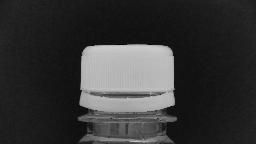Broken Ring: (73, 84, 183, 114)
